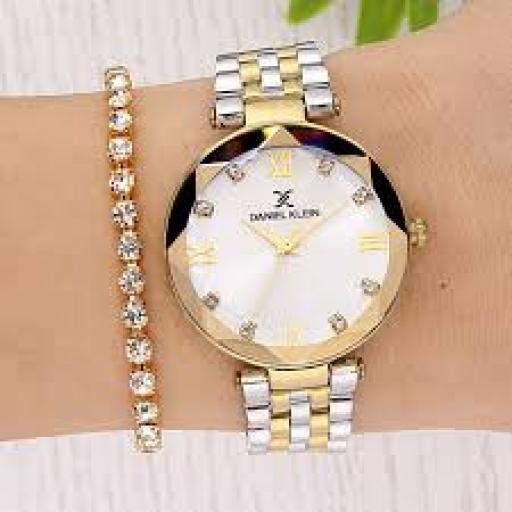KolSaati: (159, 40, 439, 457)
